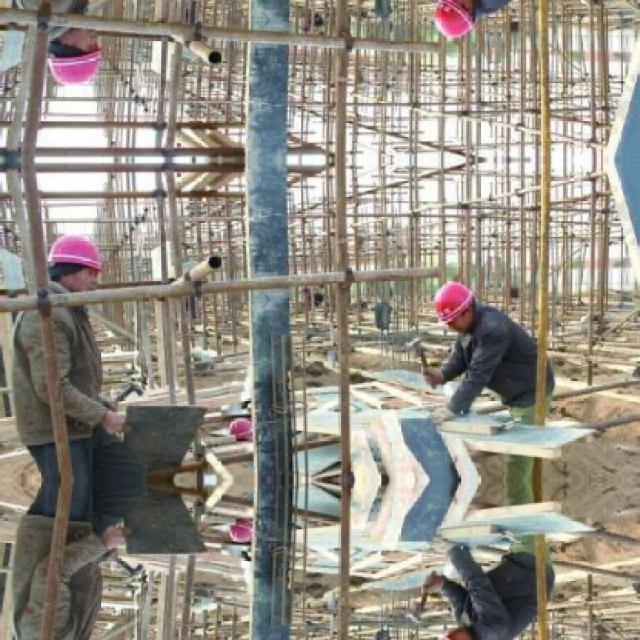helmet: (43, 231, 112, 298), (43, 22, 112, 89), (424, 275, 482, 331), (423, 0, 482, 46)
